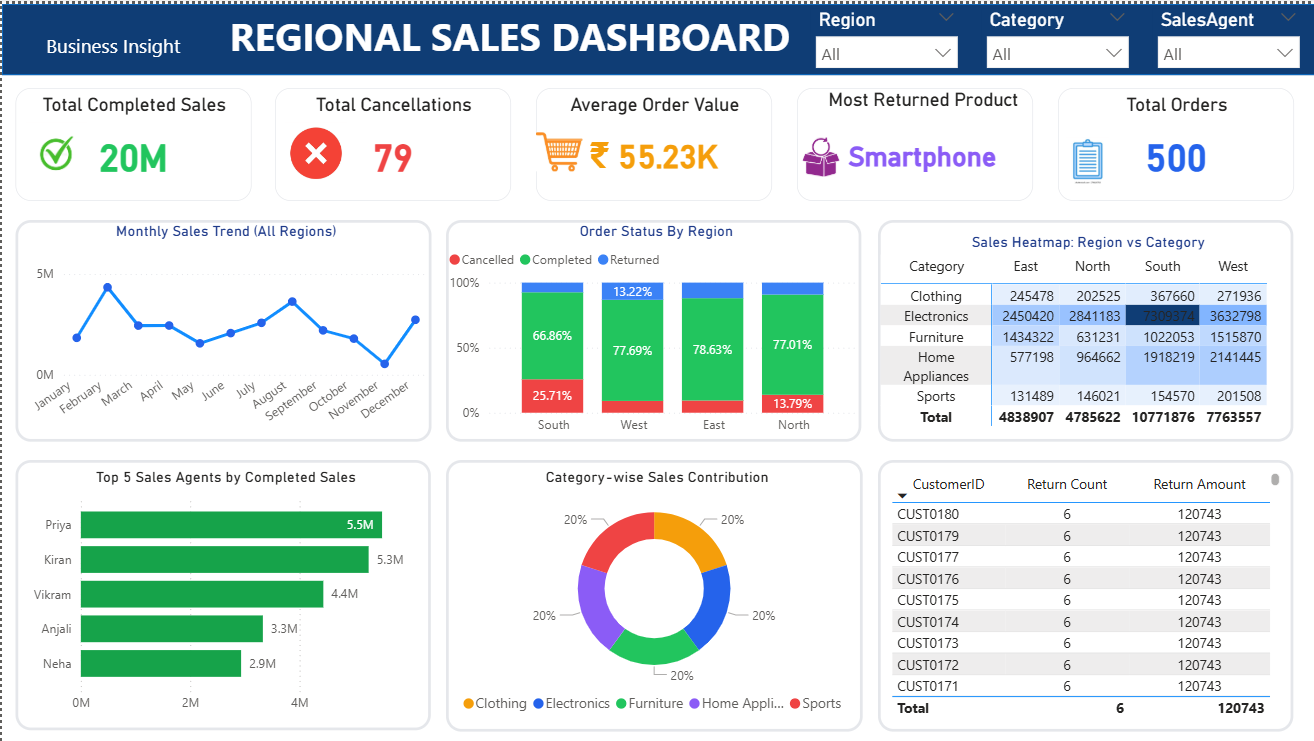

The page's visual inventory and layout, read from the dashboard file:
{"tool":"powerbi","page":{"name":"Page 1","canvas":[1280,720],"ordinal":0},"visuals":[{"type":"shape","box":[0,0,1280.5,69.3],"z":0},{"type":"textbox","box":[33.1,28.4,149.6,28.4],"z":1000},{"type":"textbox","box":[217.4,0,554.4,58.3],"z":2000},{"type":"slicer","fields":{"Values":["Order Status by Region.Region"]},"box":[787.5,4.7,148,58.3],"z":3000},{"type":"slicer","fields":{"Values":["Category-wise Sales Contribution.Category"]},"box":[954.5,4.7,148,58.3],"z":4000},{"type":"slicer","fields":{"Values":["regionalsalesdb regionalsales2025.SalesAgent"]},"box":[1121.5,4.7,148.1,58.3],"z":5000},{"type":"card","title":"Total Completed Sales","fields":{"Values":["Sum(Total Completed Sales.Total_Completed_Sales)"]},"box":[12.6,81.9,230,110],"z":6000},{"type":"card","title":"Total Cancellations","fields":{"Values":["Sum(Total Cancellations.Total_Cancellations)"]},"box":[266.6,81.9,230,110],"z":7000},{"type":"card","title":"Average Order Value","fields":{"Values":["Sum(Average Order Value.Average_Order_Value)"]},"box":[520.6,81.9,230,110],"z":8000},{"type":"card","title":"Most Returned Product","fields":{"Values":["Min(Most Returned Product.ProductName)"]},"box":[774.5,81.9,230,110],"z":9000},{"type":"card","title":"Total Orders","fields":{"Values":["Sum(Order Status by Region.TotalOrders)"]},"box":[1028.5,81.9,230,110.3],"z":10000},{"type":"image","box":[12.6,115,80.3,59.9],"z":11000},{"type":"image","box":[266.2,115,80.3,59.9],"z":12000},{"type":"image","box":[1028.9,130.1,58.5,45.3],"z":13000},{"type":"image","box":[774.6,130.1,43.8,38],"z":14000},{"type":"image","box":[520.3,118.4,45.3,51.2],"z":15000},{"type":"lineChart","title":"Monthly Sales Trend (All Regions)","fields":{"Category":["regionalsalesdb regionalsales2025.Date.Variation.Date Hierarchy.Month"],"Y":["Sum(regionalsalesdb regionalsales2025.TotalAmount)"]},"box":[12.6,211.1,405,215.8],"z":16000},{"type":"hundredPercentStackedColumnChart","title":"Order Status By Region","fields":{"Category":["regionalsalesdb regionalsales2025.Region"],"Series":["regionalsalesdb regionalsales2025.OrderStatus"],"Y":["CountNonNull(regionalsalesdb regionalsales2025.OrderID)"]},"box":[433.2,211.1,404.8,215.8],"z":17000},{"type":"pivotTable","title":"Sales Heatmap: Region vs Category","fields":{"Columns":["regionalsalesdb regionalsales2025.Region"],"Rows":["Category-wise Sales Contribution.Category"],"Values":["Sum(regionalsalesdb regionalsales2025.TotalAmount)"]},"box":[853.7,211.1,404.8,215.8],"z":18000},{"type":"clusteredBarChart","title":"Top 5 Sales Agents by Completed Sales","fields":{"Category":["regionalsalesdb regionalsales2025.SalesAgent"],"Y":["Sum(regionalsalesdb regionalsales2025.TotalAmount)"]},"box":[12.6,444.2,404.8,263],"z":19000},{"type":"donutChart","title":"Category-wise Sales Contribution","fields":{"Category":["Sales Heatmap.Category"],"Y":["Sum(regionalsalesdb regionalsales2025.TotalAmount)"]},"box":[432.6,444.3,406.3,264.5],"z":20000},{"type":"tableEx","fields":{"Values":["regionalsalesdb regionalsales2025.CustomerID","Sum(Customers with Returned Orders.CustomerReturnCount)","Sum(Customers with Returned Orders.TotalReturnAmount)"]},"box":[853.5,444.3,404.8,264.5],"z":21000}]}

Visuals, with their boxes in screenshot pixels (x1, y1, x2, y2), scaled from the page's 1280x720 canvas onto the 1314x741 screenshot:
shape: pyautogui.locateOnScreen(0, 0, 1313, 71)
textbox: pyautogui.locateOnScreen(34, 29, 188, 58)
textbox: pyautogui.locateOnScreen(223, 0, 792, 60)
slicer - Order Status by Region.Region: pyautogui.locateOnScreen(808, 5, 960, 65)
slicer - Category-wise Sales Contribution.Category: pyautogui.locateOnScreen(980, 5, 1132, 65)
slicer - regionalsalesdb regionalsales2025.SalesAgent: pyautogui.locateOnScreen(1151, 5, 1303, 65)
"Total Completed Sales" card: pyautogui.locateOnScreen(13, 84, 249, 197)
"Total Cancellations" card: pyautogui.locateOnScreen(274, 84, 510, 197)
"Average Order Value" card: pyautogui.locateOnScreen(534, 84, 771, 197)
"Most Returned Product" card: pyautogui.locateOnScreen(795, 84, 1031, 197)
"Total Orders" card: pyautogui.locateOnScreen(1056, 84, 1292, 198)
image: pyautogui.locateOnScreen(13, 118, 95, 180)
image: pyautogui.locateOnScreen(273, 118, 356, 180)
image: pyautogui.locateOnScreen(1056, 134, 1116, 181)
image: pyautogui.locateOnScreen(795, 134, 840, 173)
image: pyautogui.locateOnScreen(534, 122, 581, 175)
"Monthly Sales Trend (All Regions)" lineChart: pyautogui.locateOnScreen(13, 217, 429, 439)
"Order Status By Region" hundredPercentStackedColumnChart: pyautogui.locateOnScreen(445, 217, 860, 439)
"Sales Heatmap: Region vs Category" pivotTable: pyautogui.locateOnScreen(876, 217, 1292, 439)
"Top 5 Sales Agents by Completed Sales" clusteredBarChart: pyautogui.locateOnScreen(13, 457, 428, 728)
"Category-wise Sales Contribution" donutChart: pyautogui.locateOnScreen(444, 457, 861, 729)
tableEx - regionalsalesdb regionalsales2025.CustomerID x Sum(Customers with Returned Orders.CustomerReturnCount): pyautogui.locateOnScreen(876, 457, 1292, 729)
